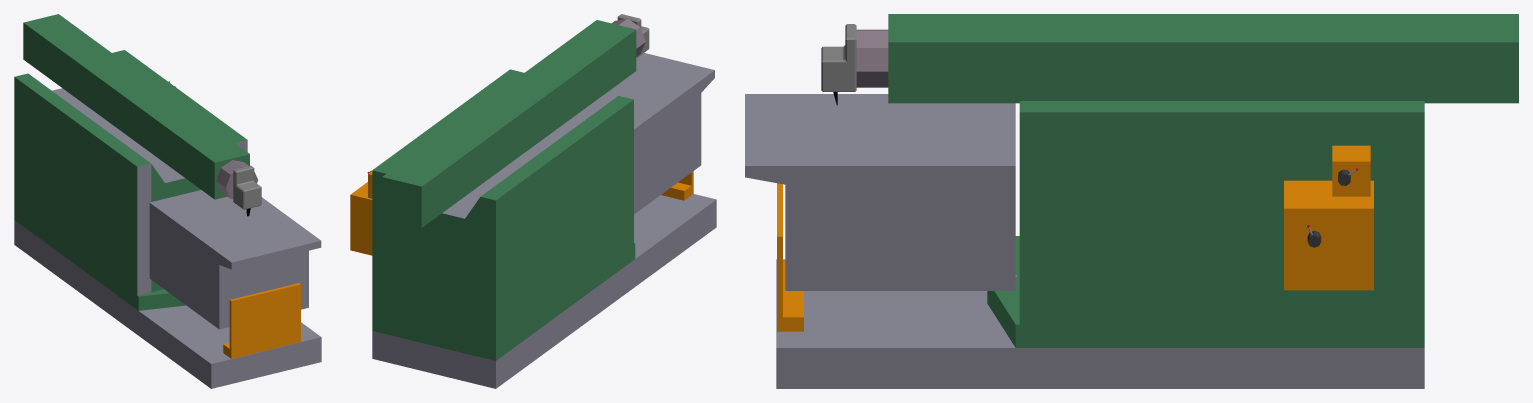
Rendered from Stanok.fbx.
The picture shows the model from 3 angles, left to right: view 1: azimuth 30°, elevation 25°; view 2: azimuth 150°, elevation 25°; view 3: azimuth 270°, elevation 25°; orthographic projection. The views are drawn at different scales.
Visible parts, largest first — view 1: Cube, Solid; view 2: Cube, Solid; view 3: Cube, Solid.
Part boxes in pixels (bbox=[...]): Cube: bbox=[14, 50, 321, 388]; Solid: bbox=[23, 14, 261, 216]; Cube: bbox=[350, 53, 716, 388]; Solid: bbox=[382, 14, 649, 227]; Cube: bbox=[745, 94, 1424, 388]; Solid: bbox=[821, 14, 1518, 105].
Size of the model in its own units: 338 by 409 by 907.
